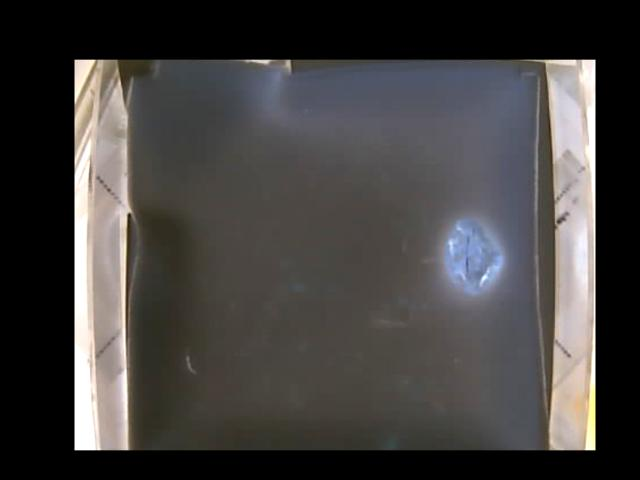Pebble: (444, 215, 505, 294)
